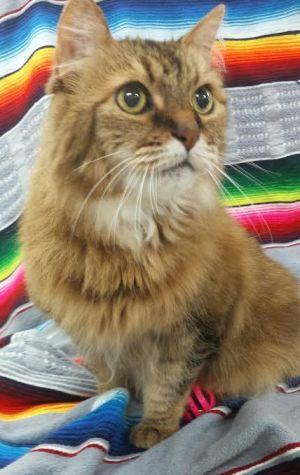persian: (27, 1, 245, 235)
